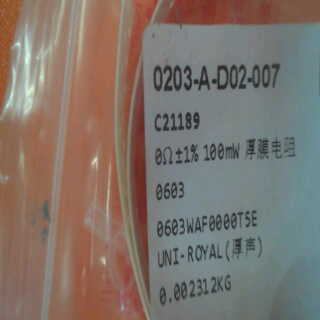0R: (152, 140, 203, 201)
